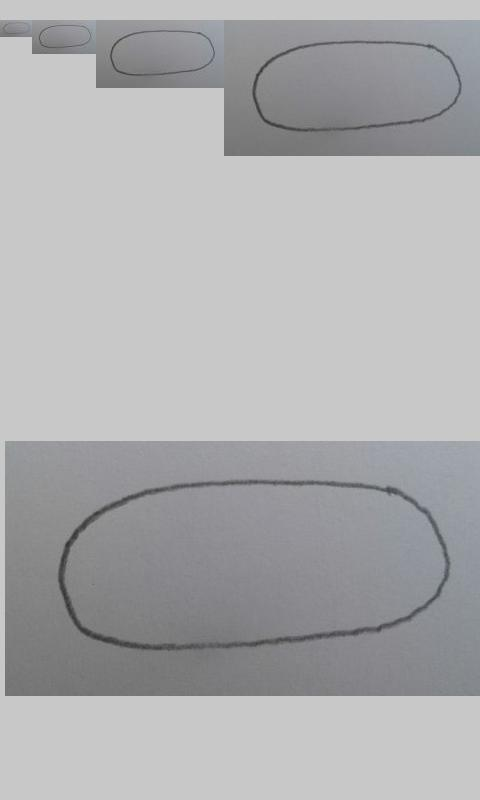chip: (55, 478, 453, 652), (252, 41, 463, 133), (110, 30, 216, 76), (39, 25, 92, 49), (2, 21, 31, 35)
